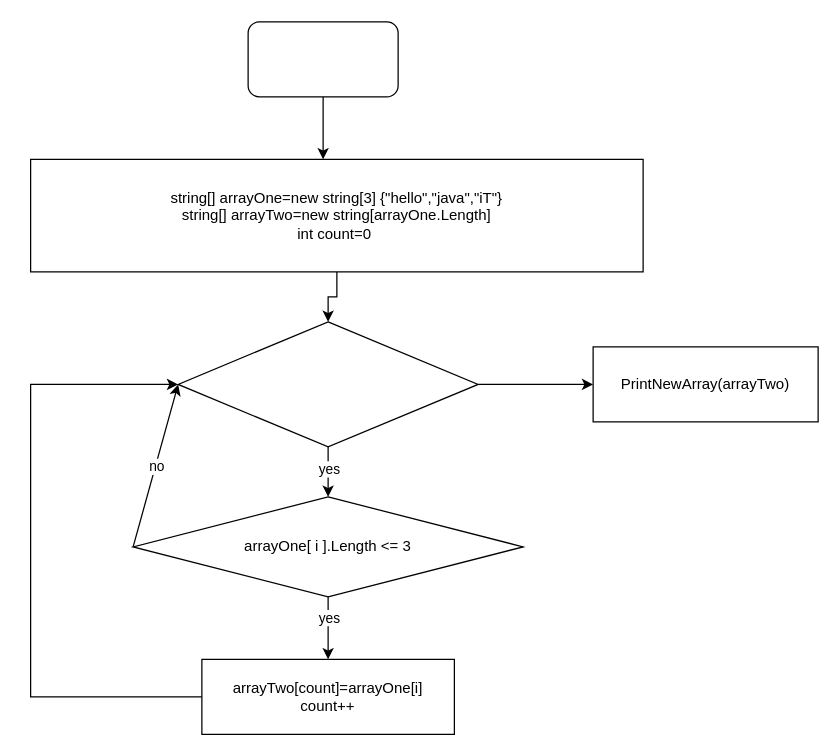
Some shapes in this 840 by 756 pixel diagram are drawn without their labels. Each missing label, with the centre of its shape:
"int i=0; i < arrayOne.Length; i++" belongs at (327,384).
"начало" belongs at (322,59).
